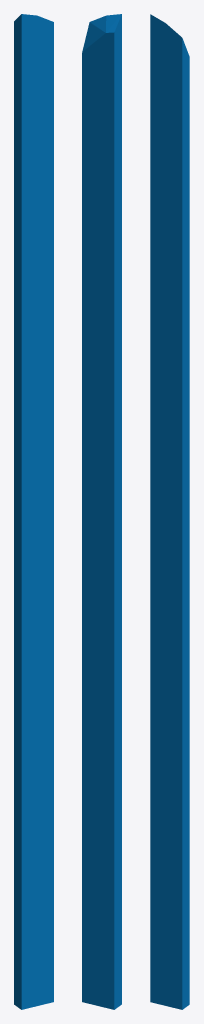
3 views of the same model, side by side, from view 1: azimuth 30°, elevation 25°; view 2: azimuth 150°, elevation 25°; view 3: azimuth 330°, elevation 25° (orthographic).
Bounding box in the file's own units: 1.19 × 34.82 × 0.477.
